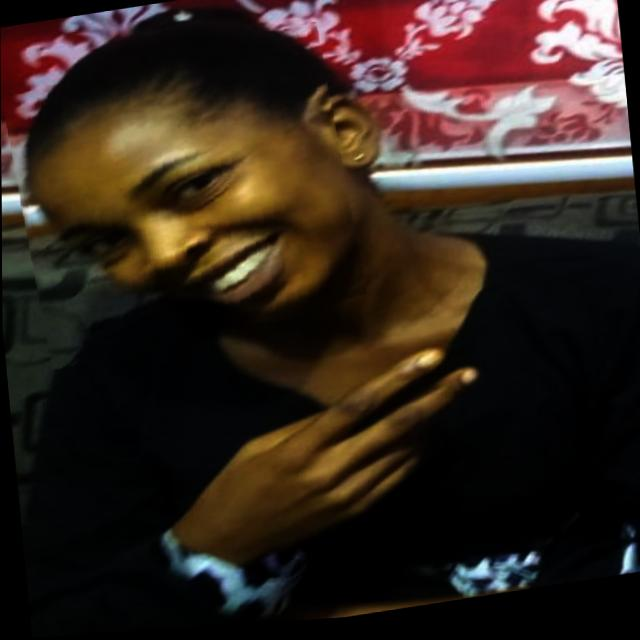happy: (5, 29, 363, 367)
